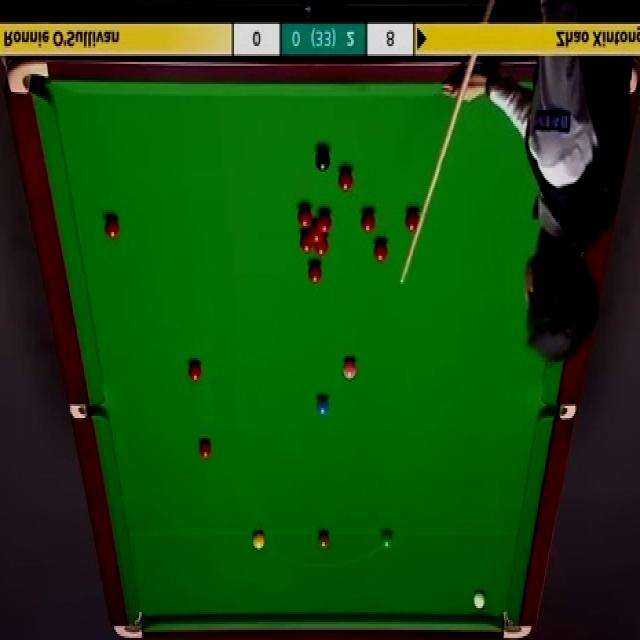black-ball: (315, 147, 332, 174)
blue-ball: (315, 394, 330, 418)
brown-ball: (317, 530, 330, 550)
green-ball: (380, 530, 393, 551)
pink-ball: (340, 352, 360, 380)
red-ball: (536, 309, 554, 337), (337, 167, 355, 194), (186, 359, 204, 382), (103, 216, 119, 240), (360, 209, 376, 233), (373, 240, 389, 264), (404, 208, 420, 232), (316, 210, 332, 232), (199, 436, 213, 461), (308, 262, 323, 283), (298, 206, 312, 228), (299, 230, 314, 250), (314, 237, 329, 256), (310, 225, 323, 242)
white-ball: (471, 588, 488, 613)
yellow-ball: (253, 530, 265, 550)
